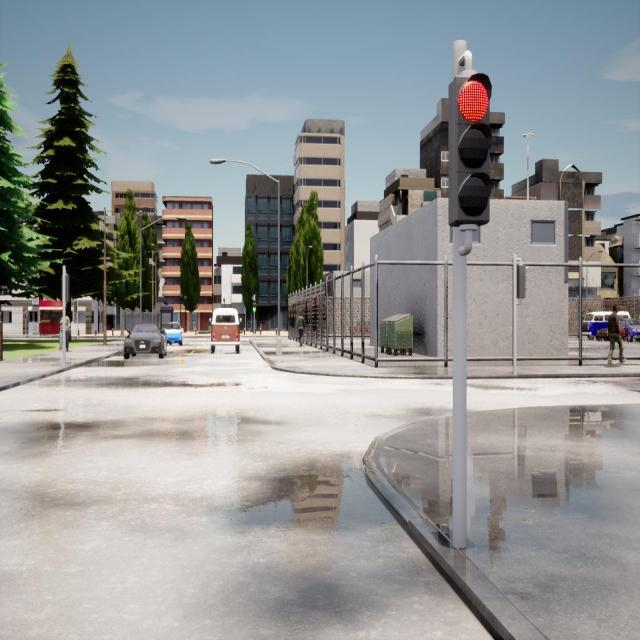Pedestrian: (607, 305, 623, 365), (59, 313, 70, 350), (297, 312, 304, 346)
Traffic_Signs: (24, 310, 28, 318)
Vehicle: (125, 323, 165, 360), (581, 312, 630, 339), (211, 307, 238, 354), (621, 318, 640, 341), (596, 327, 625, 340), (165, 322, 182, 344)
traffic_light: (455, 74, 489, 225), (516, 266, 525, 298), (65, 275, 70, 302), (253, 300, 256, 312)
